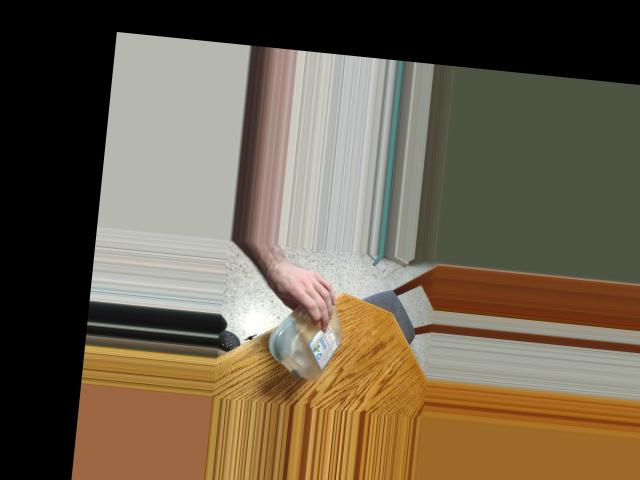cheese: (267, 285, 351, 385)
